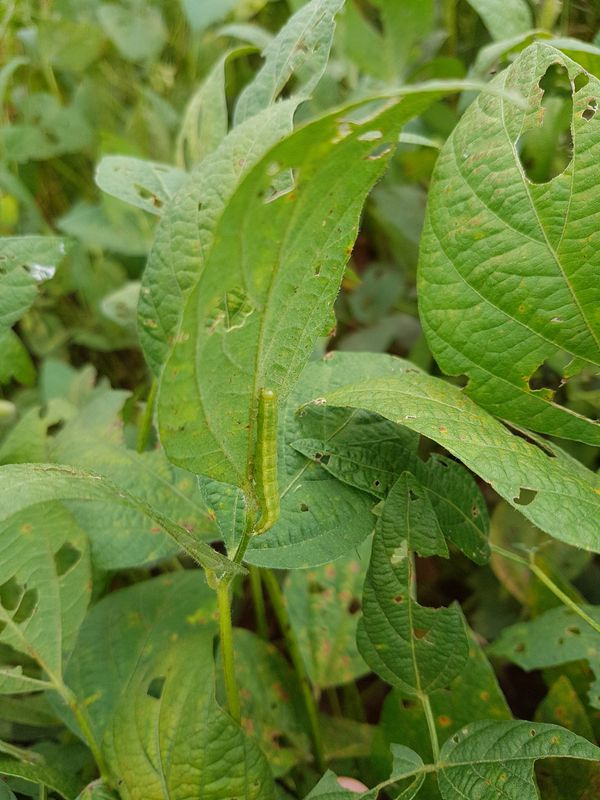Anticarsia_gemmatalis: (212, 375, 324, 542)
